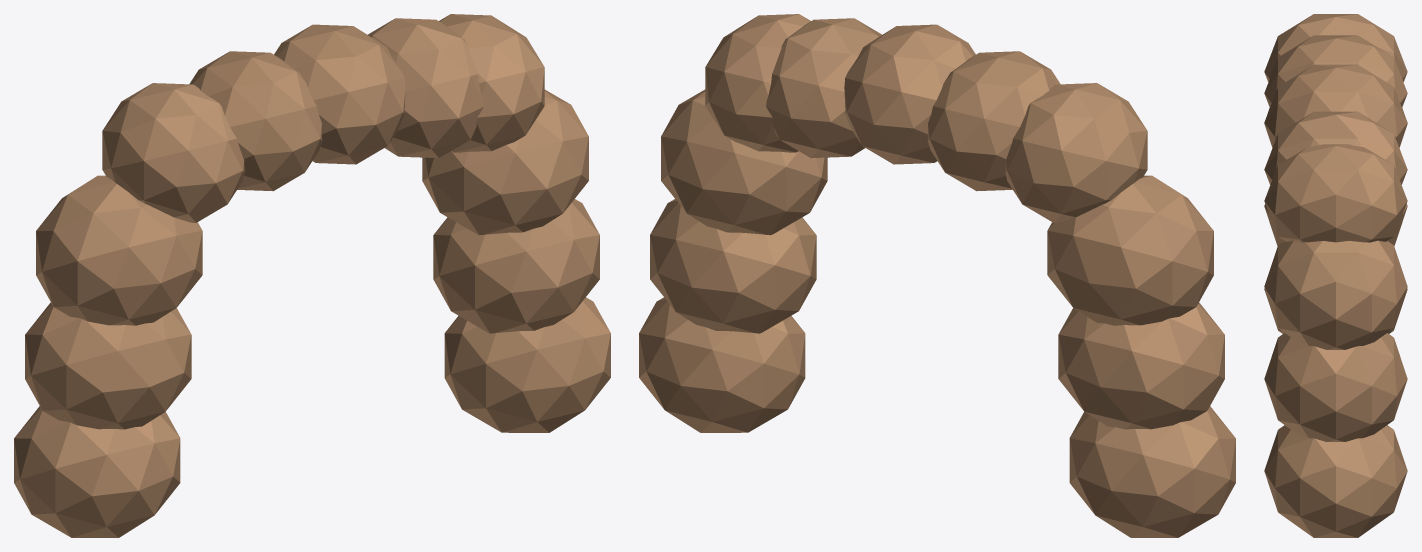
Rendered from sandstone_arch.glb.
The picture shows the model from 3 angles, left to right: view 1: azimuth 30°, elevation 25°; view 2: azimuth 150°, elevation 25°; view 3: azimuth 270°, elevation 25°; orthographic projection. The views are drawn at different scales.
Parts seen in each view (by area): view 1: pillar_-1_2, pillar_-1_0, pillar_-1_1, pillar_1_0, pillar_1_1, arch_top_0, pillar_1_2, arch_top_2, arch_top_1, arch_top_3, arch_top_4; view 2: pillar_-1_2, pillar_-1_0, pillar_-1_1, pillar_1_0, pillar_1_1, arch_top_0, pillar_1_2, arch_top_2, arch_top_1, arch_top_3, arch_top_4; view 3: pillar_1_2, pillar_1_0, pillar_1_1, arch_top_4, arch_top_2, arch_top_3, arch_top_1, arch_top_0, pillar_-1_1.
Boxes of the visible parts, box(x1,y1,x2,y2) form: pillar_-1_2: box(36, 175, 202, 325); pillar_-1_0: box(14, 406, 180, 537); pillar_-1_1: box(25, 302, 191, 429); pillar_1_0: box(444, 297, 610, 432); pillar_1_1: box(433, 199, 599, 333); arch_top_0: box(102, 83, 244, 222); pillar_1_2: box(422, 89, 588, 235); arch_top_2: box(274, 24, 405, 164); arch_top_1: box(189, 51, 322, 191); arch_top_3: box(368, 18, 483, 158); arch_top_4: box(439, 14, 544, 152); pillar_-1_2: box(1047, 175, 1213, 325); pillar_-1_0: box(1069, 406, 1235, 537); pillar_-1_1: box(1058, 302, 1224, 429); pillar_1_0: box(639, 297, 805, 432); pillar_1_1: box(650, 199, 816, 333); arch_top_0: box(1005, 83, 1147, 222); pillar_1_2: box(661, 89, 827, 235); arch_top_2: box(844, 24, 975, 164); arch_top_1: box(927, 51, 1060, 191); arch_top_3: box(766, 18, 881, 158); arch_top_4: box(705, 14, 810, 152); pillar_1_2: box(1264, 240, 1407, 349); pillar_1_0: box(1264, 425, 1407, 537); pillar_1_1: box(1264, 333, 1407, 441); arch_top_4: box(1264, 144, 1407, 242); arch_top_2: box(1264, 64, 1407, 145); arch_top_3: box(1264, 111, 1407, 184); arch_top_1: box(1264, 35, 1407, 107); arch_top_0: box(1264, 14, 1407, 81); pillar_-1_1: box(1264, 204, 1407, 245).
Size of the model in its own units: 2.12 by 1.54 by 0.52.
